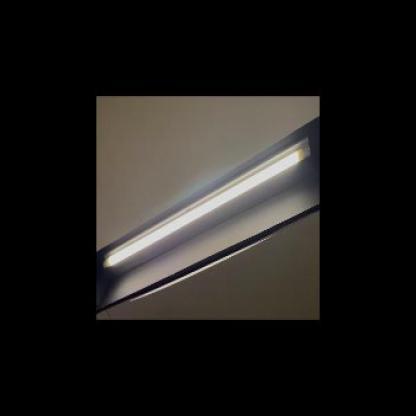light_on: (100, 132, 315, 271)
